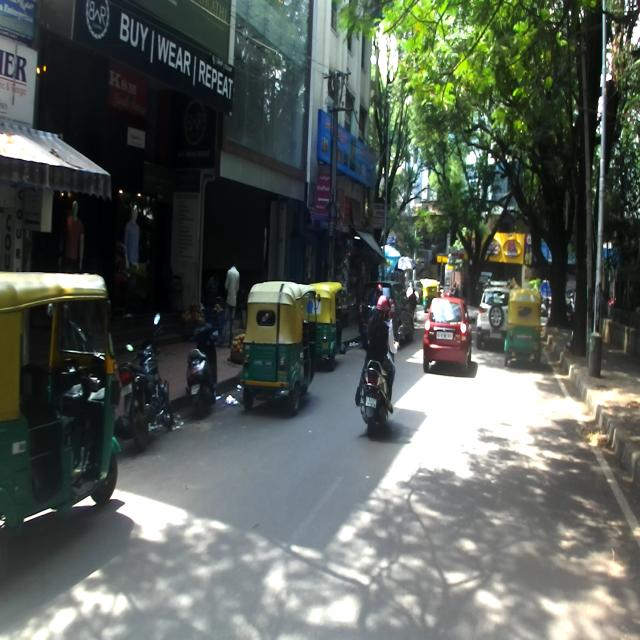auto ahead at: (0, 267, 127, 527), (243, 277, 317, 410)
car ahead at: (422, 293, 472, 381)
motorcycle ahead at: (127, 329, 172, 449), (353, 352, 398, 438), (186, 303, 223, 406)
